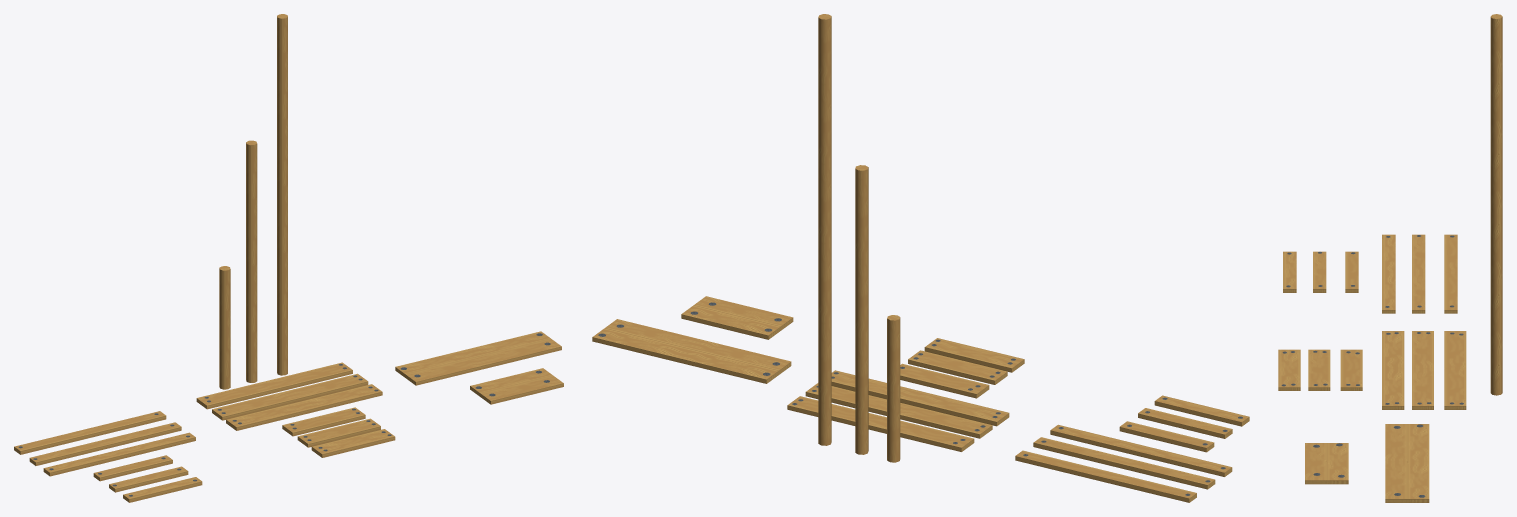
Rendered from AA_LightWood_CT.fbx.
3 renders of one model, left to right at view 1: azimuth 30°, elevation 25°; view 2: azimuth 150°, elevation 25°; view 3: azimuth 270°, elevation 25°, orthographic. The views are drawn at different scales.
Visible parts, largest first — view 1: LPole_01, LLBoard_01, MPole_01, MLBoard_01, MLBoard_03, MLBoard_02, LSBoard_01, SLBoard_02, SLBoard_03, SLBoard_01, SPole_01, MSBoard_04 (+5 smaller); view 2: LPole_01, LLBoard_01, MPole_01, LSBoard_01, MLBoard_03, MLBoard_01, MLBoard_02, SLBoard_02, SLBoard_01, SLBoard_03, SPole_01, MSBoard_02 (+5 smaller); view 3: LPole_01, LLBoard_01, LSBoard_01, MLBoard_01, MLBoard_03, MLBoard_02, SLBoard_02, SLBoard_03, SLBoard_01, MSBoard_03, MSBoard_04, MSBoard_02 (+3 smaller).
Part boxes in pixels (x1,y1,x2,y2): LPole_01: (277,14,287,375); LLBoard_01: (395,331,561,385); MPole_01: (246,142,257,382); MLBoard_01: (196,362,352,409); MLBoard_03: (226,384,382,430); MLBoard_02: (212,373,368,420); LSBoard_01: (470,368,563,404); SLBoard_02: (43,432,195,476); SLBoard_03: (14,411,166,454); SLBoard_01: (29,422,181,465); SPole_01: (219,266,230,389); MSBoard_04: (282,407,365,436); LPole_01: (818,14,831,445); LLBoard_01: (592,319,791,383); MPole_01: (855,167,868,454); LSBoard_01: (681,296,793,339); MLBoard_03: (831,370,1009,426); MLBoard_01: (787,396,974,451); MLBoard_02: (805,383,992,438); SLBoard_02: (1050,424,1232,476); SLBoard_01: (1033,437,1215,489); SLBoard_03: (1015,450,1196,502); SPole_01: (887,315,900,462); MSBoard_02: (908,350,1007,384); LPole_01: (1490,14,1502,395); LLBoard_01: (1385,424,1429,502); LSBoard_01: (1305,443,1348,484); MLBoard_01: (1444,331,1466,409); MLBoard_03: (1382,331,1404,409); MLBoard_02: (1412,331,1433,409); SLBoard_02: (1382,234,1395,313); SLBoard_03: (1444,234,1457,313); SLBoard_01: (1412,234,1425,313); MSBoard_03: (1278,349,1300,390); MSBoard_04: (1340,349,1362,390); MSBoard_02: (1308,349,1330,390).
Size of the model in its own units: 1552 by 1031 by 557.
